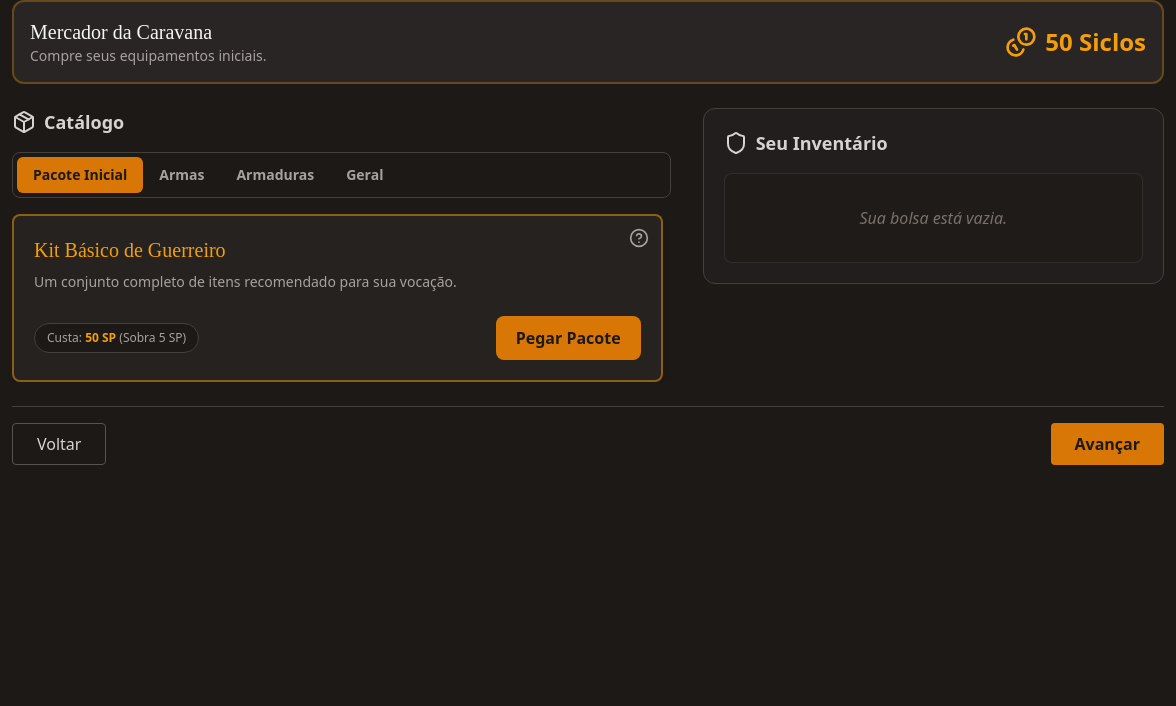
Test: moedas fracionadas › comprar um item fracionado mostra a carteira sem ruído de ponto flutuante
The image size is (1176, 706).
Click the button "Geral" at (365, 175), box left=330, top=157, right=399, bottom=193
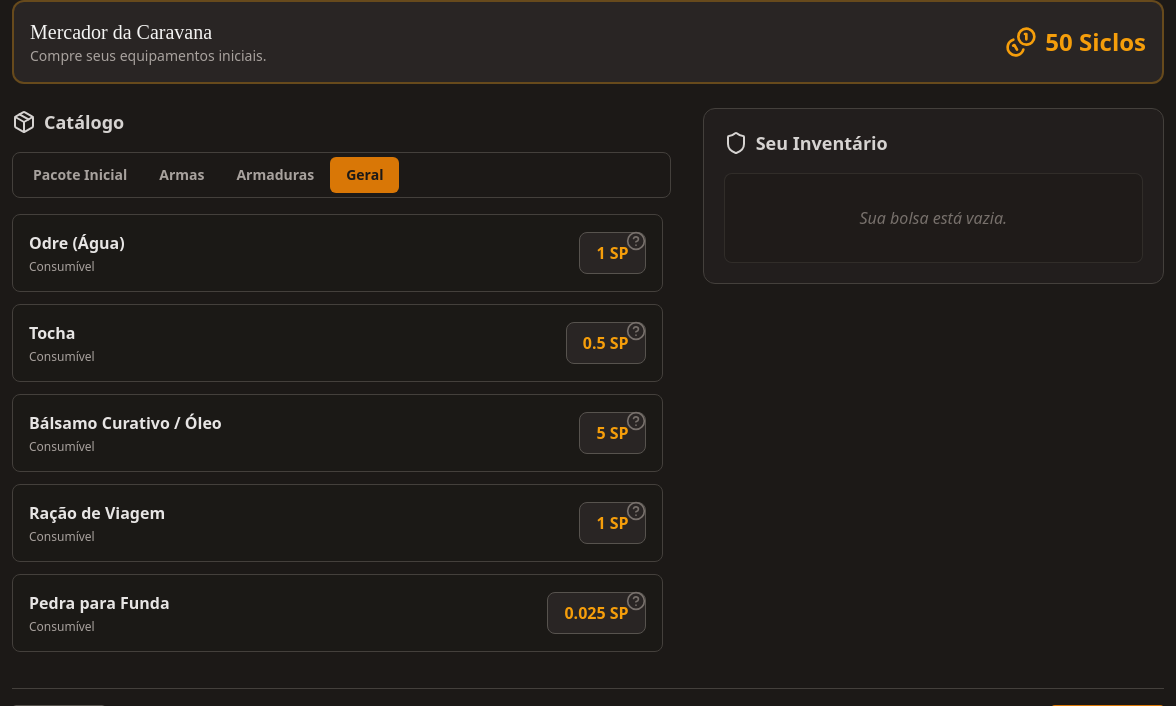
Click the button "0.5 SP" at (606, 343), box left=566, top=322, right=646, bottom=364
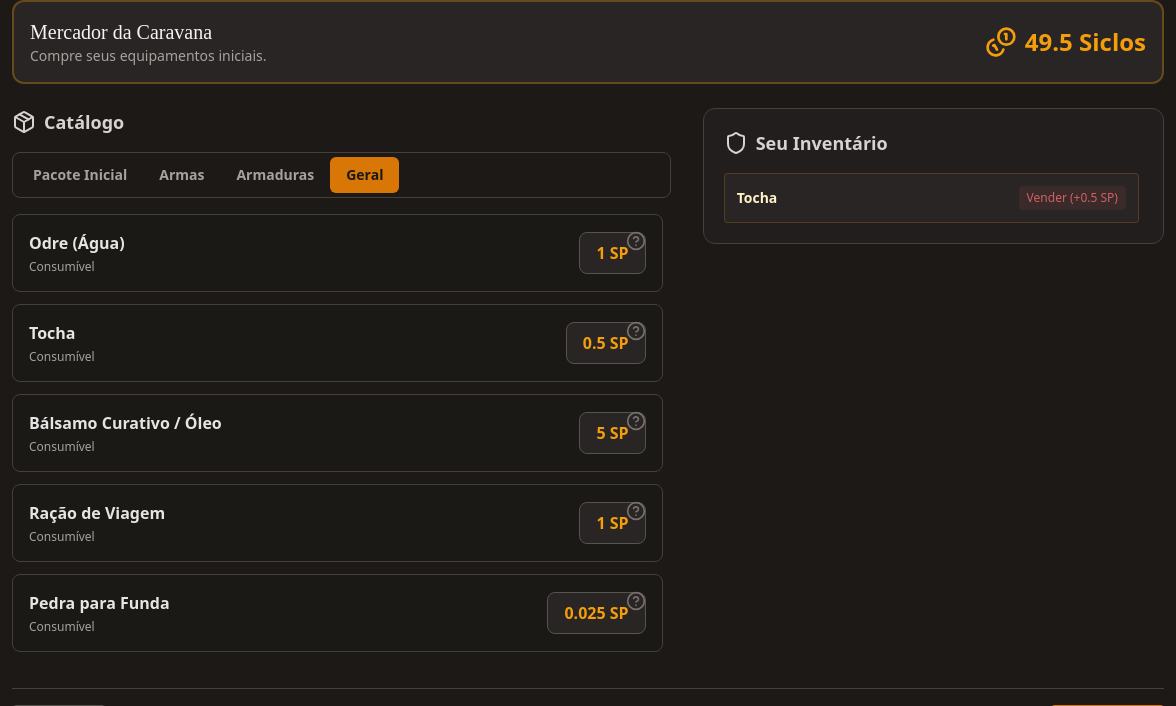
Now the text "49.5 Siclos" is shown, box left=1025, top=26, right=1146, bottom=58
